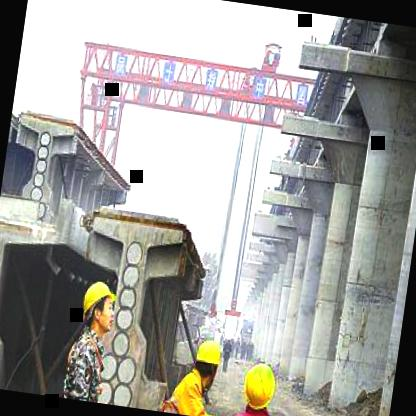helmet: (76, 274, 121, 336), (237, 357, 281, 416), (190, 333, 226, 387)
